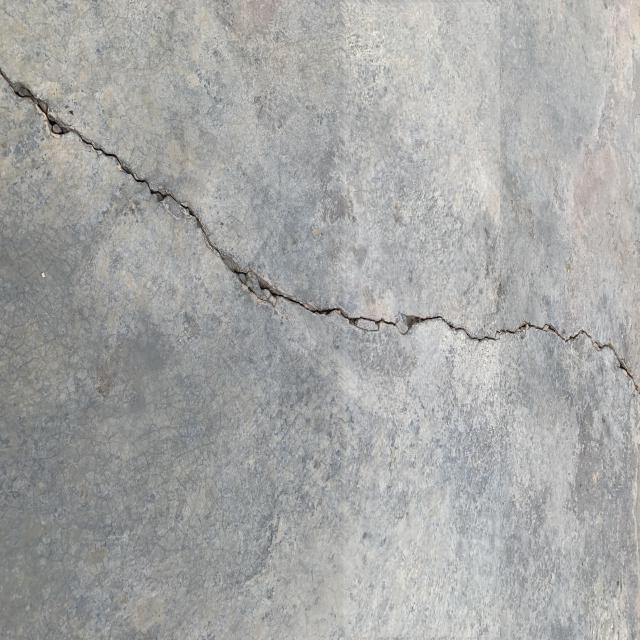diagonal crack: (0, 56, 640, 410)
